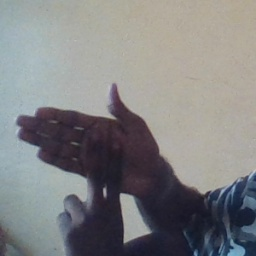N: (14, 83, 162, 228)
